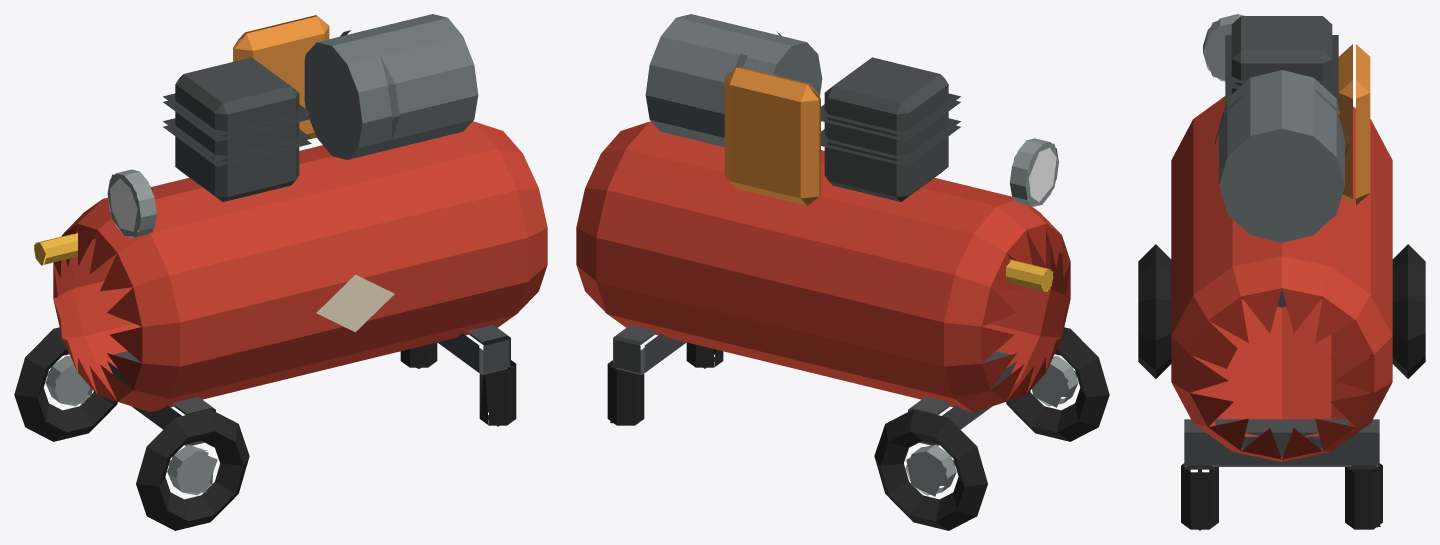
File: may_nen_khi.glb
3 views of the same model, side by side, from view 1: azimuth 30°, elevation 25°; view 2: azimuth 150°, elevation 25°; view 3: azimuth 270°, elevation 25° (orthographic). The views are drawn at different scales.
Parts seen in each view (by area): view 1: binh_hoi, mo_to_bom, banh_chan, dong_ho; view 2: binh_hoi, mo_to_bom, banh_chan, dong_ho; view 3: binh_hoi, mo_to_bom, banh_chan, dong_ho.
Boxes of the visible parts, x1,y1,x2,y2 form: binh_hoi: (53,121,547,412); mo_to_bom: (163,14,478,201); banh_chan: (14,325,516,530); dong_ho: (34,169,156,265); binh_hoi: (576,121,1070,412); mo_to_bom: (645,14,960,205); banh_chan: (607,325,1109,530); dong_ho: (1006,138,1058,291); binh_hoi: (1171,96,1392,461); mo_to_bom: (1215,16,1370,242); banh_chan: (1138,244,1425,530); dong_ho: (1203,14,1244,81).
Size of the model in its own units: 0.8715 by 0.7027 by 0.456.
